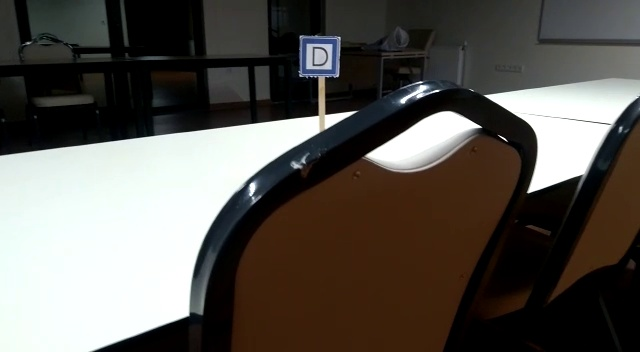durak: (300, 37, 339, 76)
